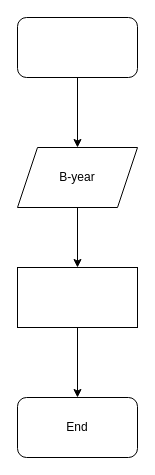
The diagram is 155 pixels wide and 475 high, and some of its shapes have lost their labels. Each missing label, with the centre of its shape:
age =2023 - B-year: the point at 77,297
Start: the point at 77,47
